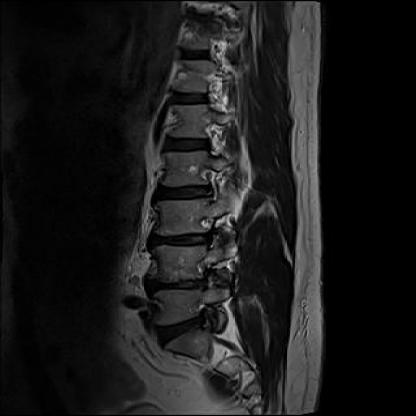Disc Bulgerotation: (150, 307, 211, 357), (139, 221, 230, 252)
